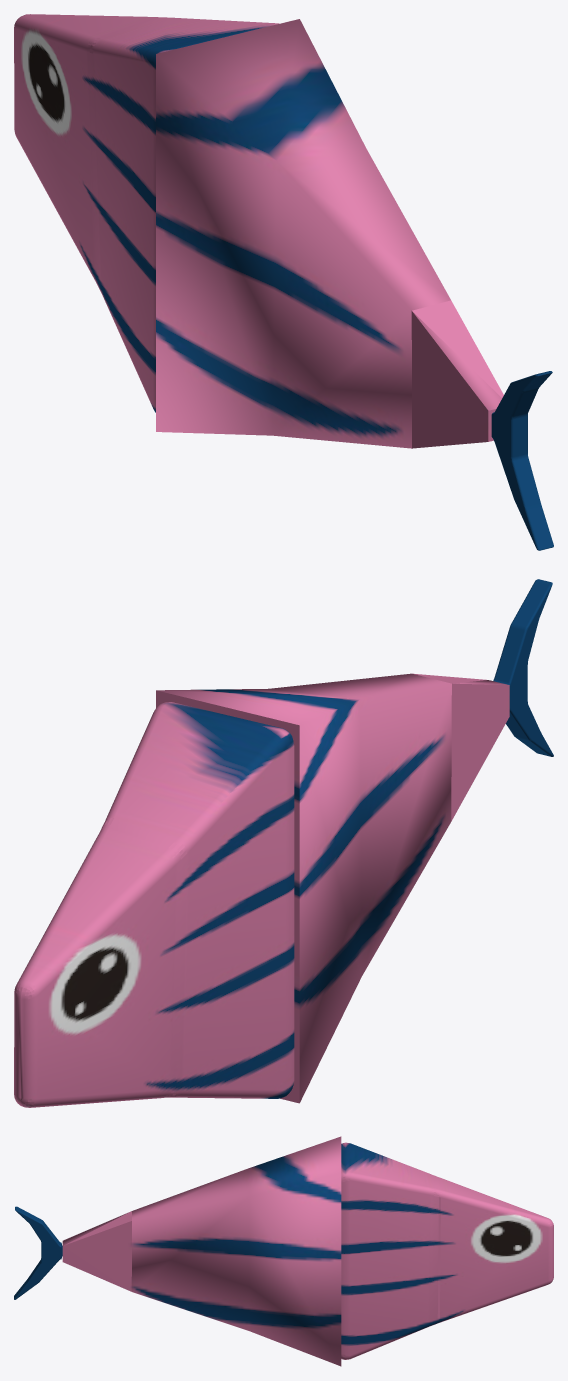
File: Fish8Full_new.dae
3 views of the same model, one above another, from view 1: azimuth 30°, elevation 25°; view 2: azimuth 150°, elevation 25°; view 3: azimuth 270°, elevation 25° (orthographic). The views are drawn at different scales.
Visible parts, largest first — view 1: Cube_Cube_000, Cube_Cube_001, Cube_Cube_002; view 2: Cube_Cube_001, Cube_Cube_000, Cube_Cube_002; view 3: Cube_Cube_000, Cube_Cube_001, Cube_Cube_002.
Part boxes in pixels (box(x1,y1,x2,y2)): Cube_Cube_000: box(156, 19, 503, 448); Cube_Cube_001: box(14, 14, 279, 412); Cube_Cube_002: box(491, 371, 553, 550); Cube_Cube_001: box(14, 702, 294, 1107); Cube_Cube_000: box(156, 673, 509, 1103); Cube_Cube_002: box(493, 579, 553, 756); Cube_Cube_000: box(62, 1136, 341, 1366); Cube_Cube_001: box(341, 1142, 553, 1359); Cube_Cube_002: box(14, 1206, 62, 1299).
Bounding box in the file's own units: 3.11 × 19.69 × 7.81.
4 materials, 4 textured.
